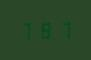eight: (37, 20, 54, 39)
seven: (18, 20, 35, 40), (55, 19, 72, 39)
